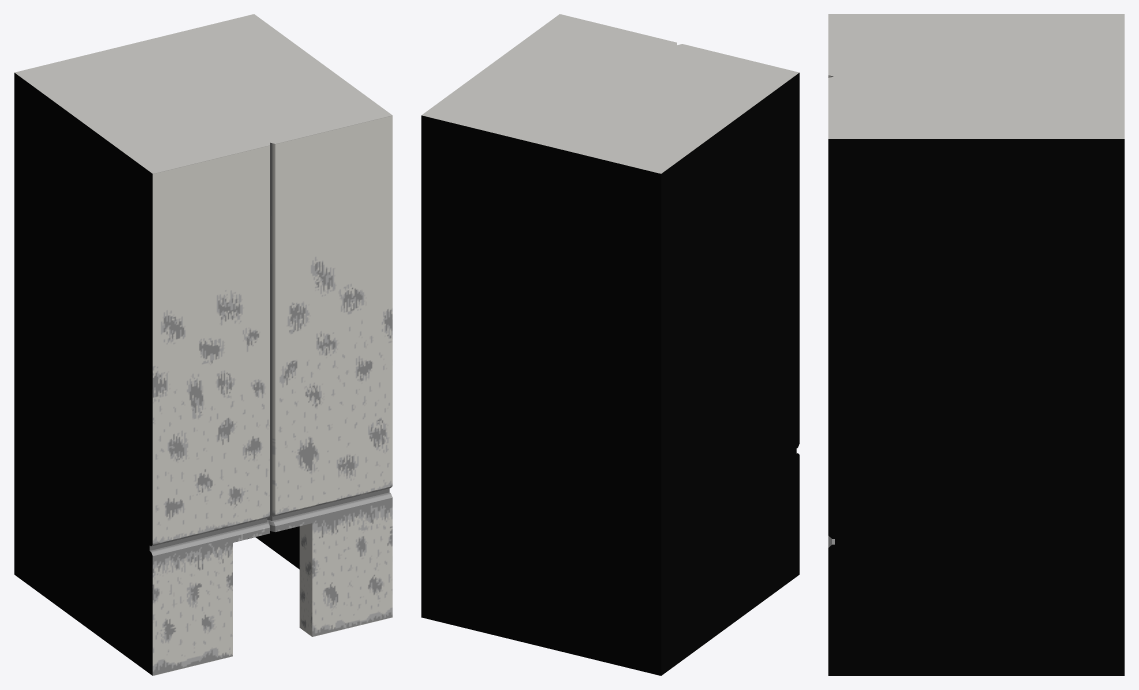
Rendered from Shelter.fbx.
3 renders of one model, left to right at view 1: azimuth 30°, elevation 25°; view 2: azimuth 150°, elevation 25°; view 3: azimuth 270°, elevation 25°, orthographic. The views are drawn at different scales.
Parts seen in each view (by area): view 1: Shelter; view 2: Shelter; view 3: Shelter.
Boxes of the visible parts, box(x1,y1,x2,y2) form: Shelter: box(14, 14, 392, 675); Shelter: box(421, 14, 799, 675); Shelter: box(828, 14, 1124, 675).
Size of the model in its own units: 1100 by 2200 by 1100.
